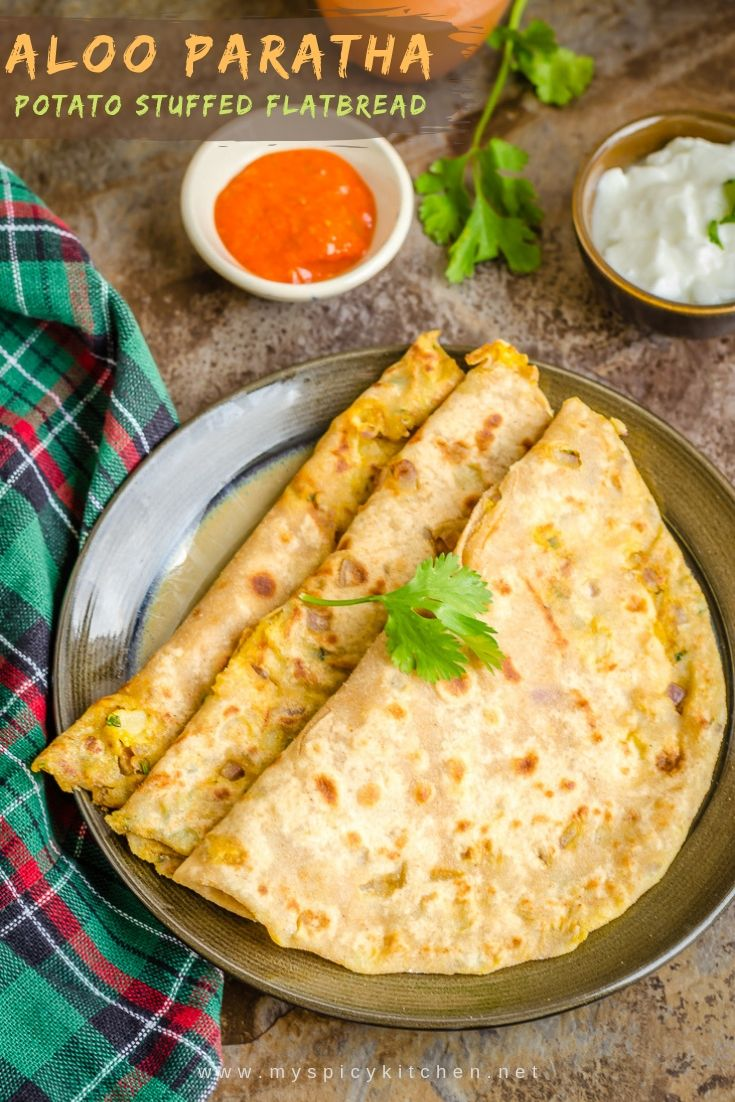aloo_paratha: (42, 332, 735, 981)
